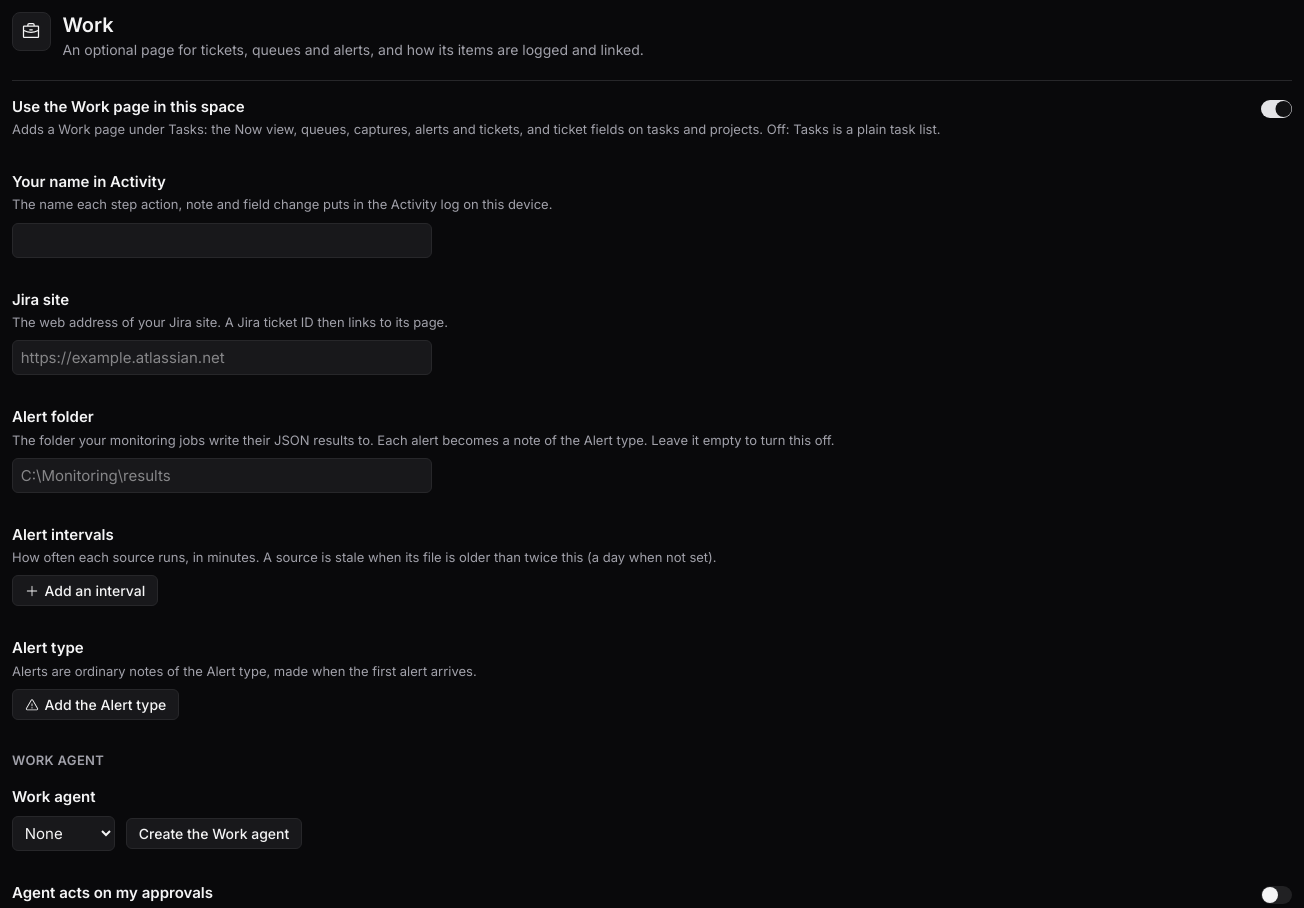
Test case: WorkSection › a 422 shows the server's message under the field
Type "ftp://x" into the field named "Jira site".
click(222, 358); type("ftp://x")  # box [12, 340, 432, 375]
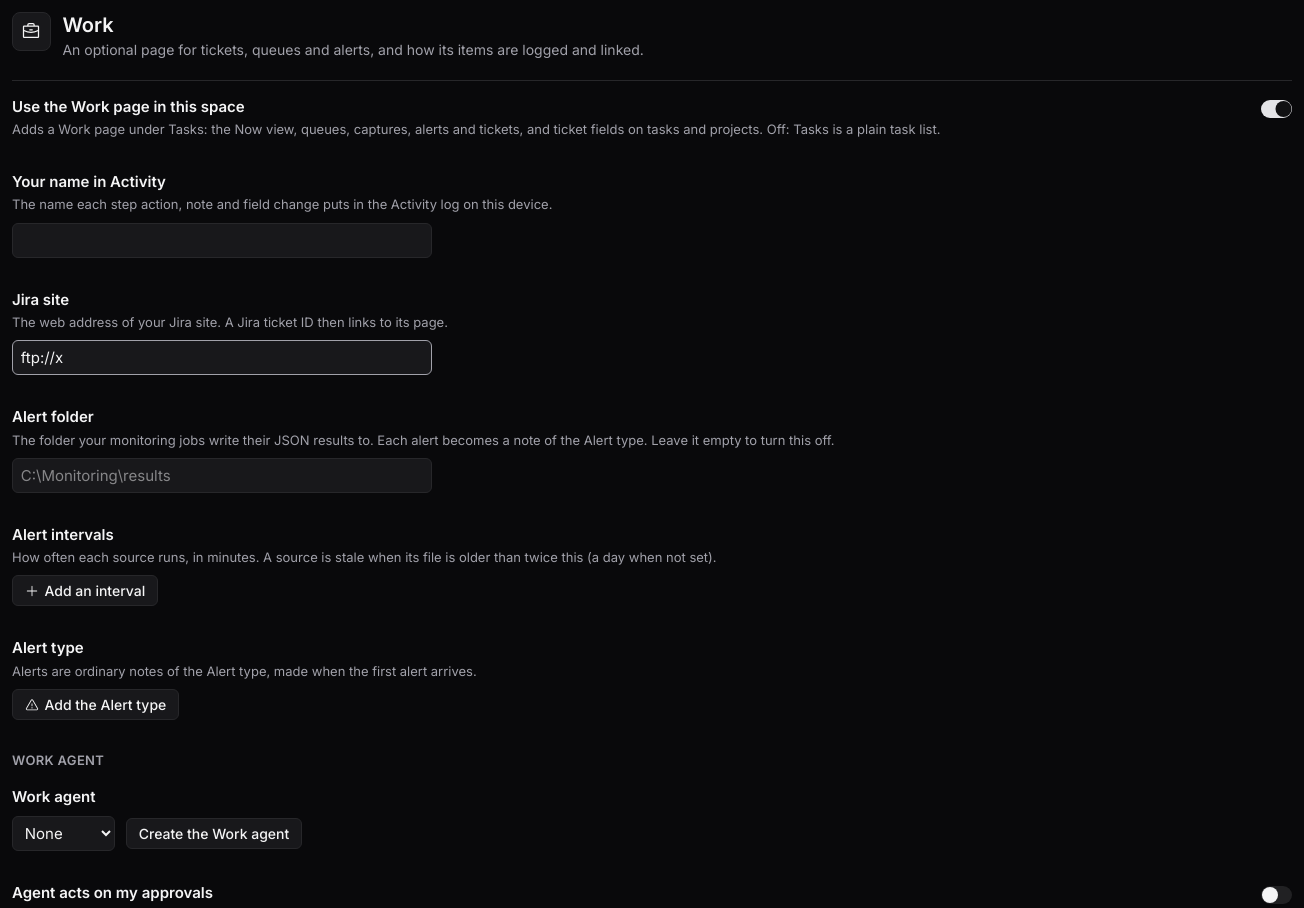
Press Tab
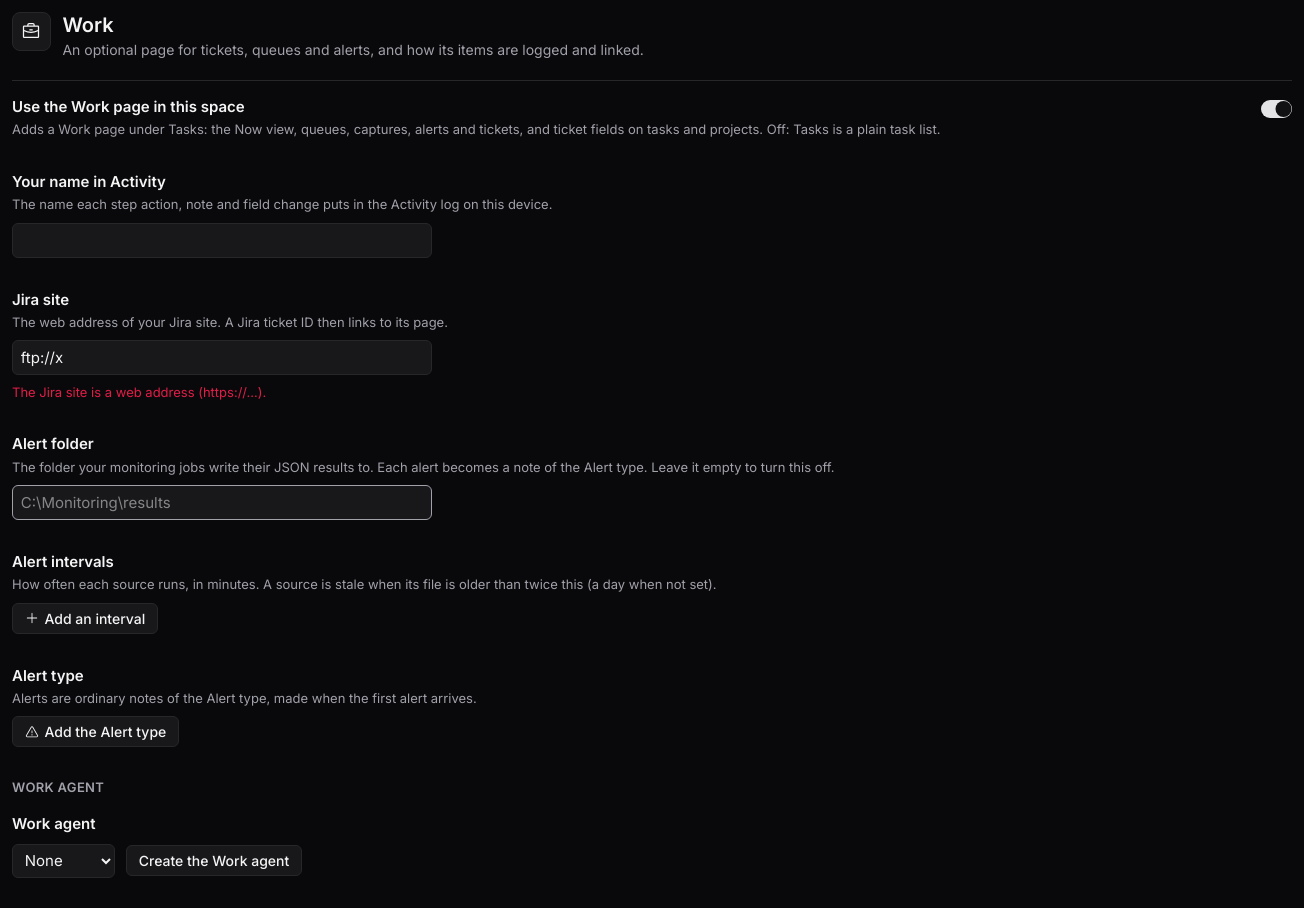
Expected: the message reads "The Jira site is a web address (https://…).", [12, 384, 266, 400]
Type "X" into the field named "Your name in Activity".
click(222, 240); type("X")  # box [12, 223, 432, 258]
Then press Enter
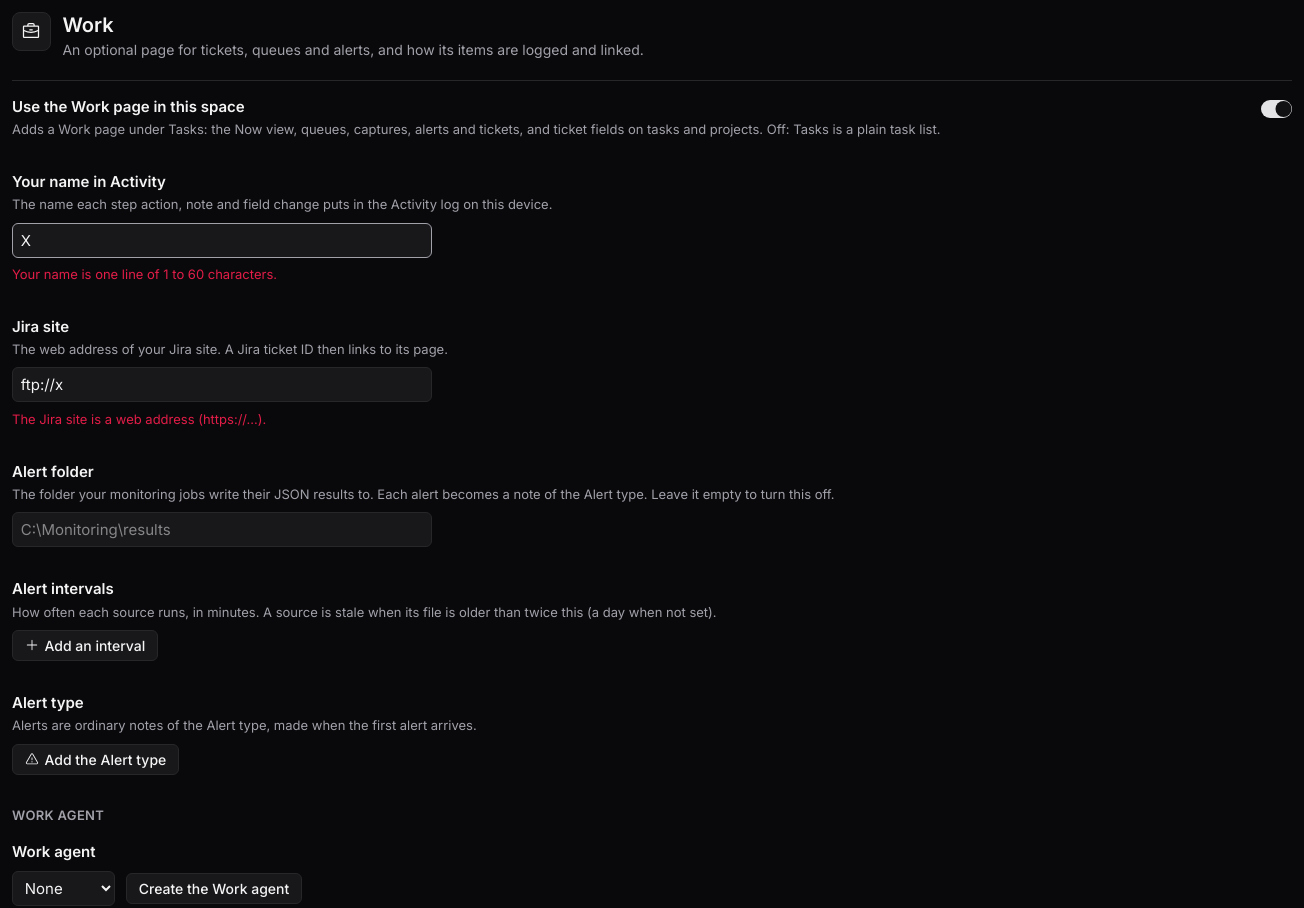
Expected: the message "Your name is one line of 1 to 60 characters." is shown, [12, 266, 277, 282]
